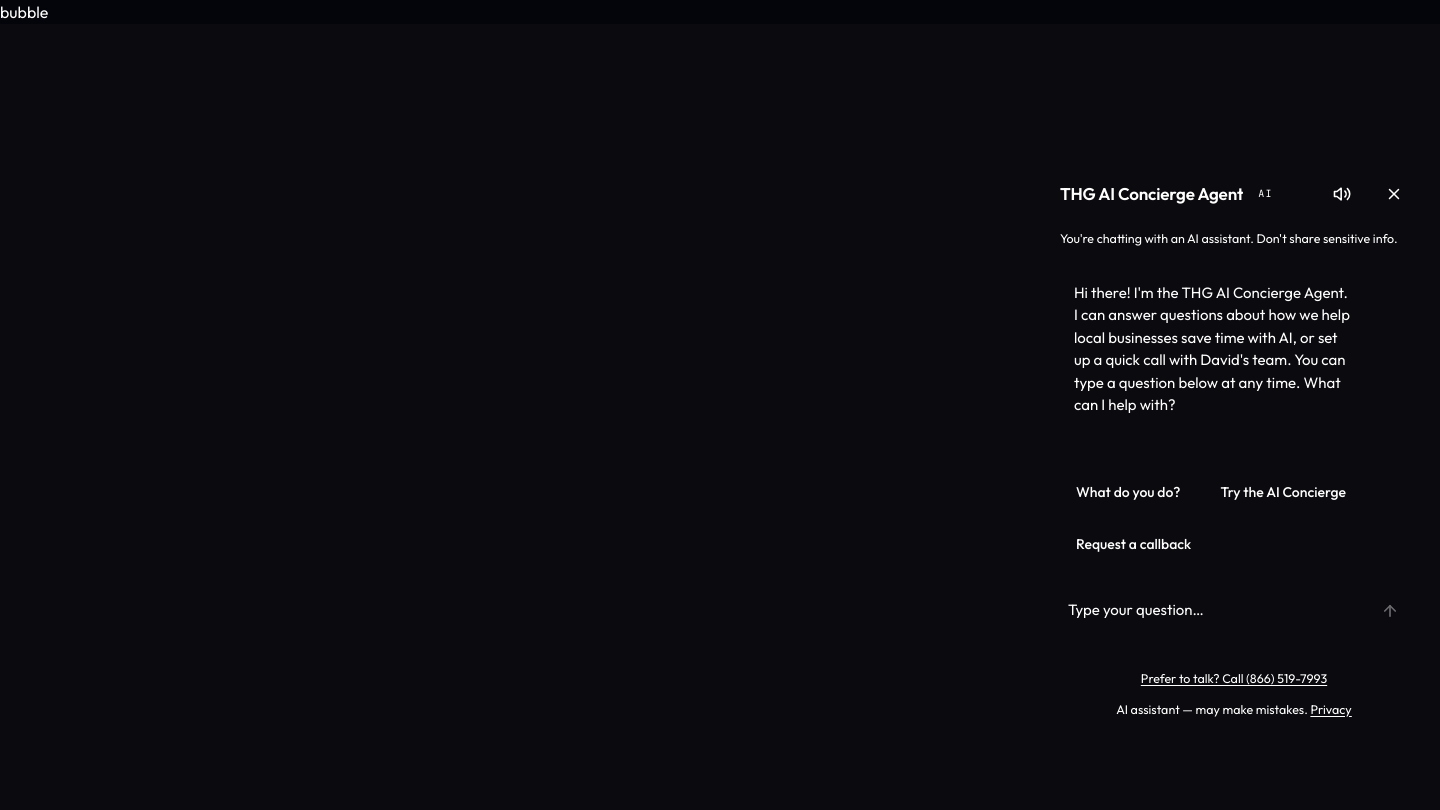
Test: ChatPanel voice: "Tap to hear replies" › typing instead of tapping leaves the pill only on the newest reply
Type "hello" into the text box named "Message" at (1208, 610), box left=1056, top=588, right=1360, bottom=632
Then press Enter
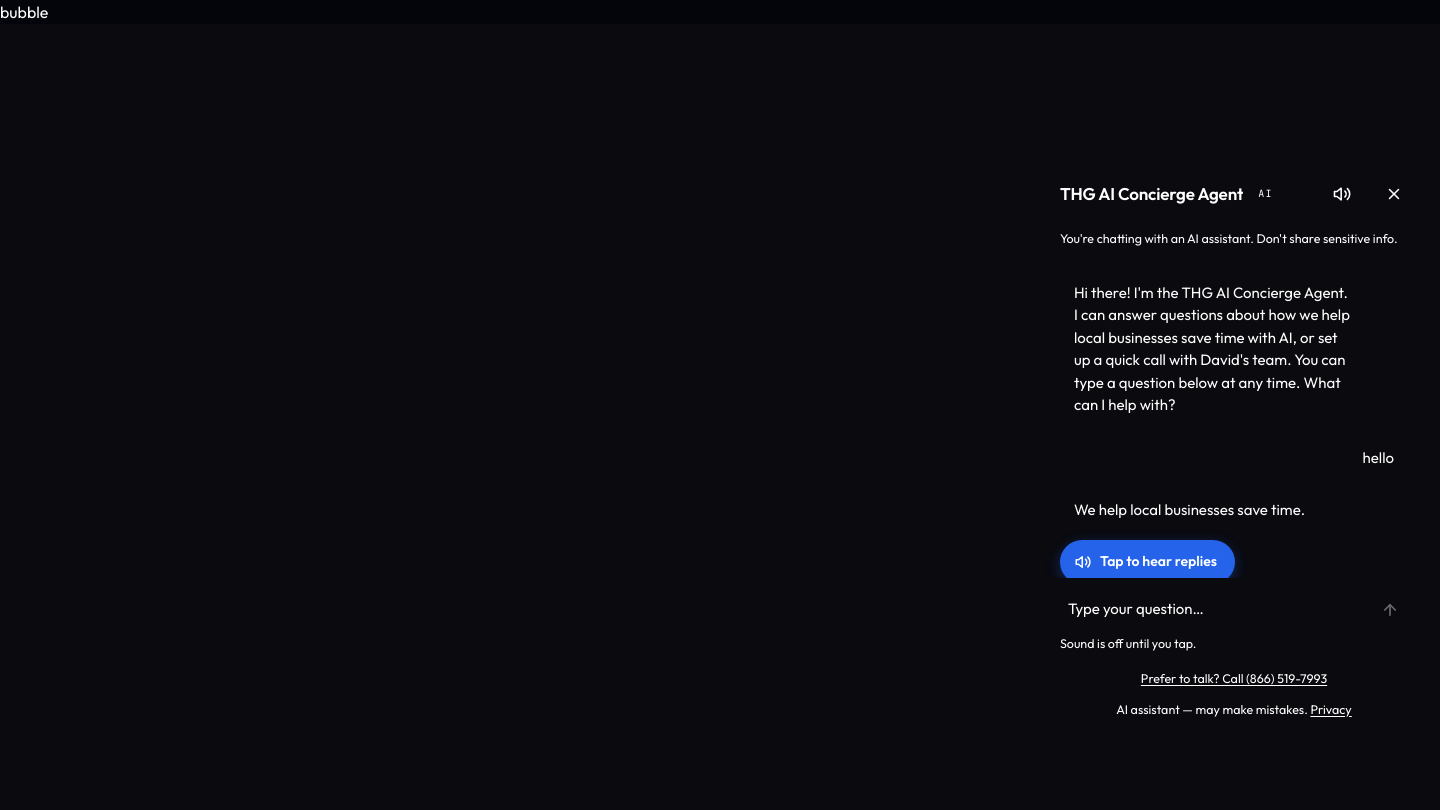
Type "typed instead" into the text box named "Message" at (1208, 610), box left=1056, top=588, right=1360, bottom=632
Then press Enter
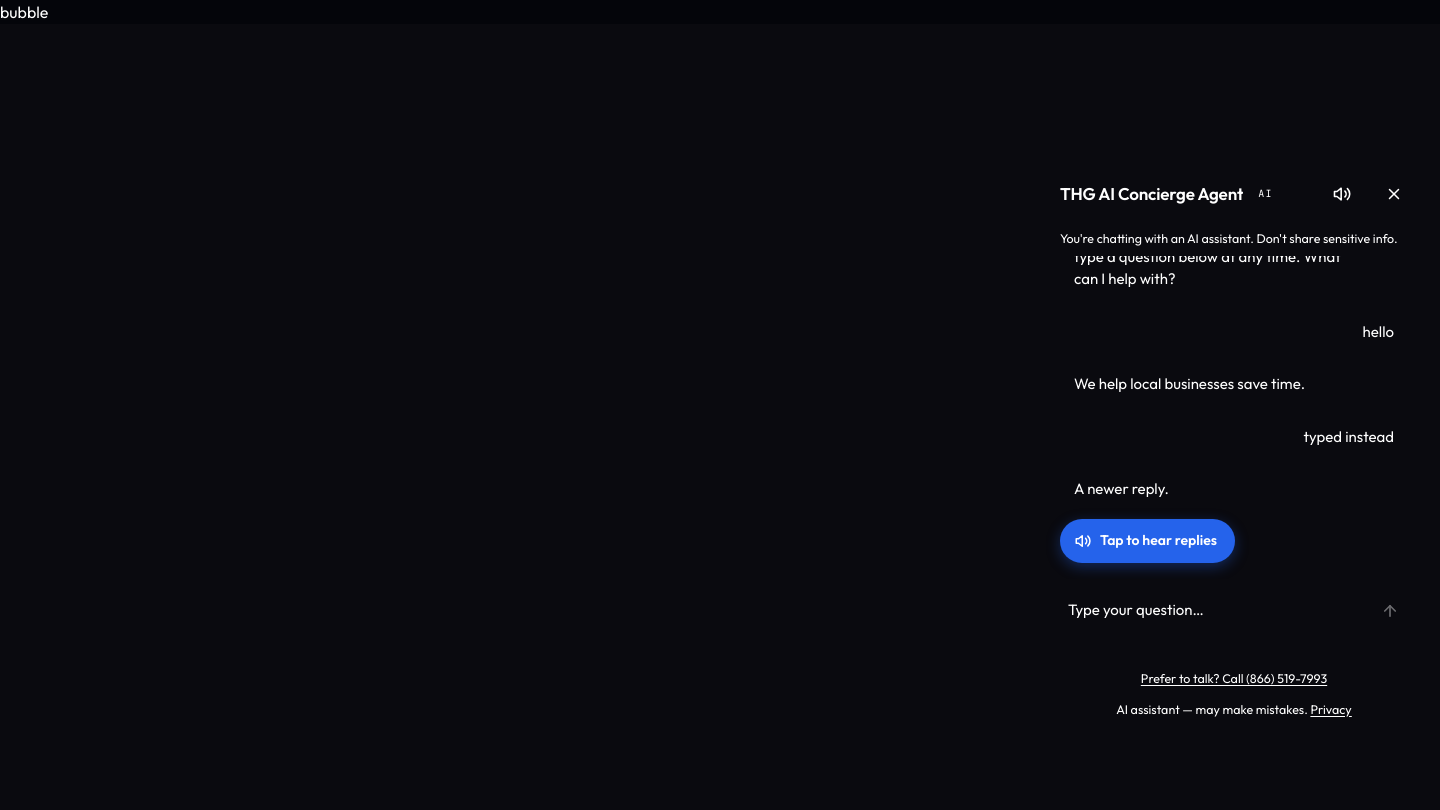
Expected: the number of buttons "Tap to hear replies" is 1, left=1060, top=518, right=1235, bottom=562
Expected: the list item "Tap to hear replies" shows "A newer reply.", left=1074, top=479, right=1169, bottom=498
